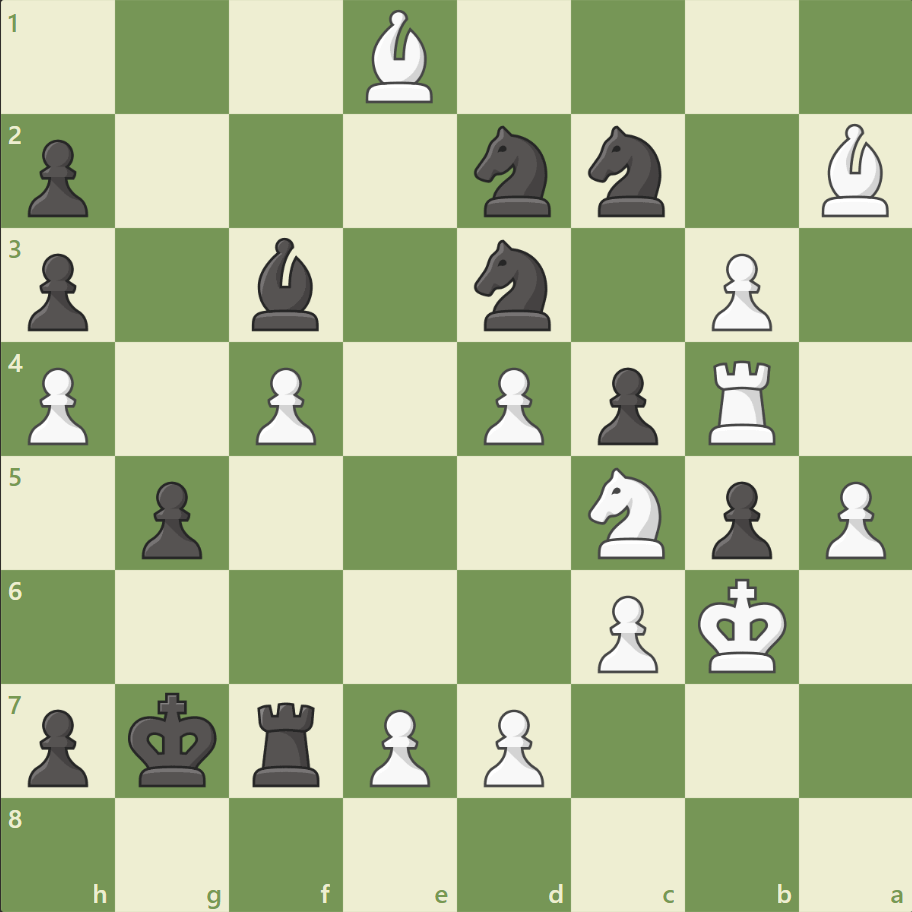B: (358, 6, 442, 109), (812, 120, 896, 222)
K: (692, 571, 792, 679)
N: (579, 461, 676, 564)
P: (474, 700, 549, 791), (474, 359, 549, 450), (247, 359, 322, 450), (20, 359, 95, 450), (701, 246, 776, 337), (361, 700, 435, 791), (588, 586, 662, 677), (815, 473, 889, 564)
R: (700, 352, 783, 449)
b: (244, 233, 328, 336)
k: (124, 685, 224, 793)
n: (465, 234, 562, 337), (579, 121, 676, 223), (465, 121, 562, 223)
p: (20, 700, 95, 791), (701, 473, 776, 564), (133, 473, 208, 564), (20, 246, 95, 337), (20, 132, 95, 223), (588, 359, 662, 450)
r: (246, 693, 329, 790)
